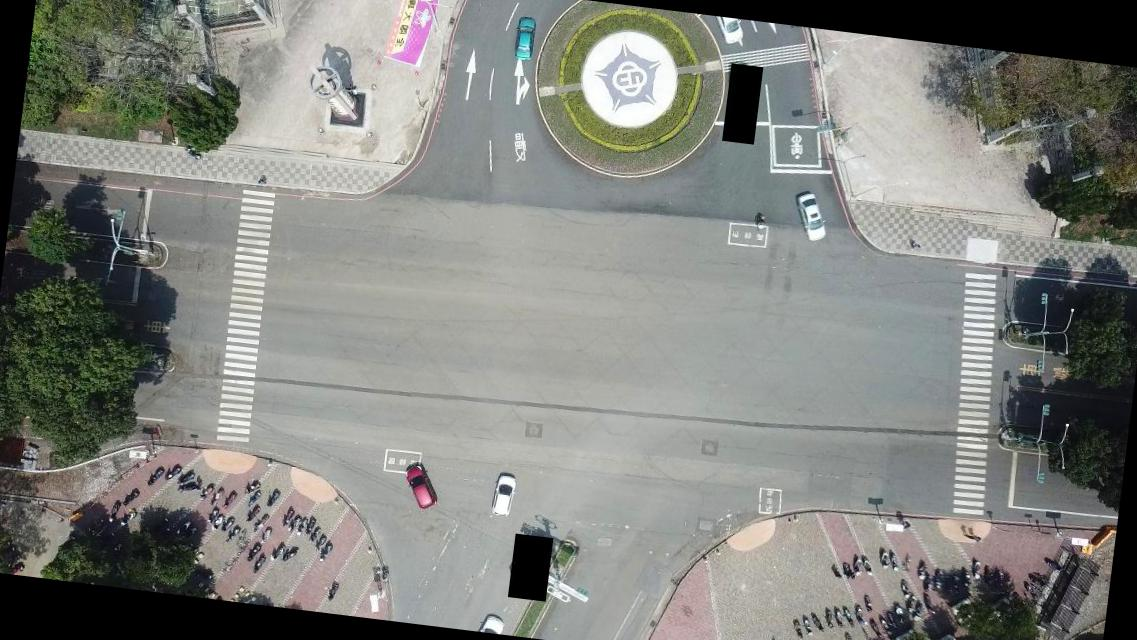vehicle: (786, 190, 832, 248), (396, 457, 444, 512), (486, 472, 522, 519), (512, 15, 538, 62), (712, 16, 747, 46), (480, 608, 510, 634)
